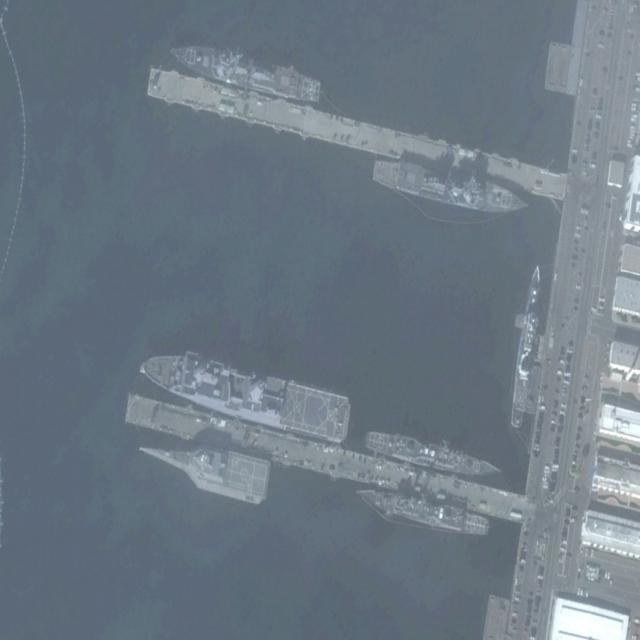Auxiliary Ships: (136, 339, 353, 447)
Destroyer: (165, 31, 322, 107), (372, 153, 529, 222)
Frigate: (134, 425, 271, 508), (363, 419, 505, 486), (351, 477, 491, 541)
Other Ship: (509, 260, 545, 432)
